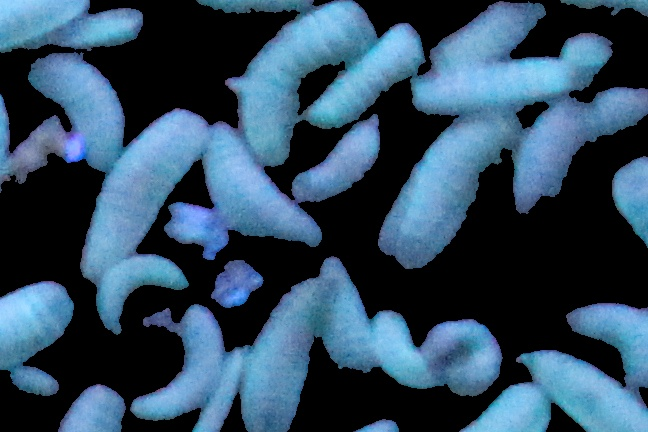larvae: (237, 1, 380, 162), (81, 109, 209, 281), (394, 111, 516, 271), (514, 88, 648, 213), (208, 122, 321, 247), (241, 277, 326, 432), (309, 23, 425, 133), (516, 342, 647, 431), (29, 53, 129, 167), (130, 304, 224, 421), (413, 56, 578, 118), (428, 1, 549, 71), (294, 114, 380, 204), (563, 300, 648, 389), (94, 255, 187, 335), (1, 280, 77, 371), (316, 257, 372, 370), (424, 318, 502, 396), (367, 309, 430, 387), (195, 346, 249, 432), (1, 1, 95, 49), (463, 383, 552, 432), (62, 383, 131, 432), (54, 7, 144, 44), (612, 153, 648, 244)
